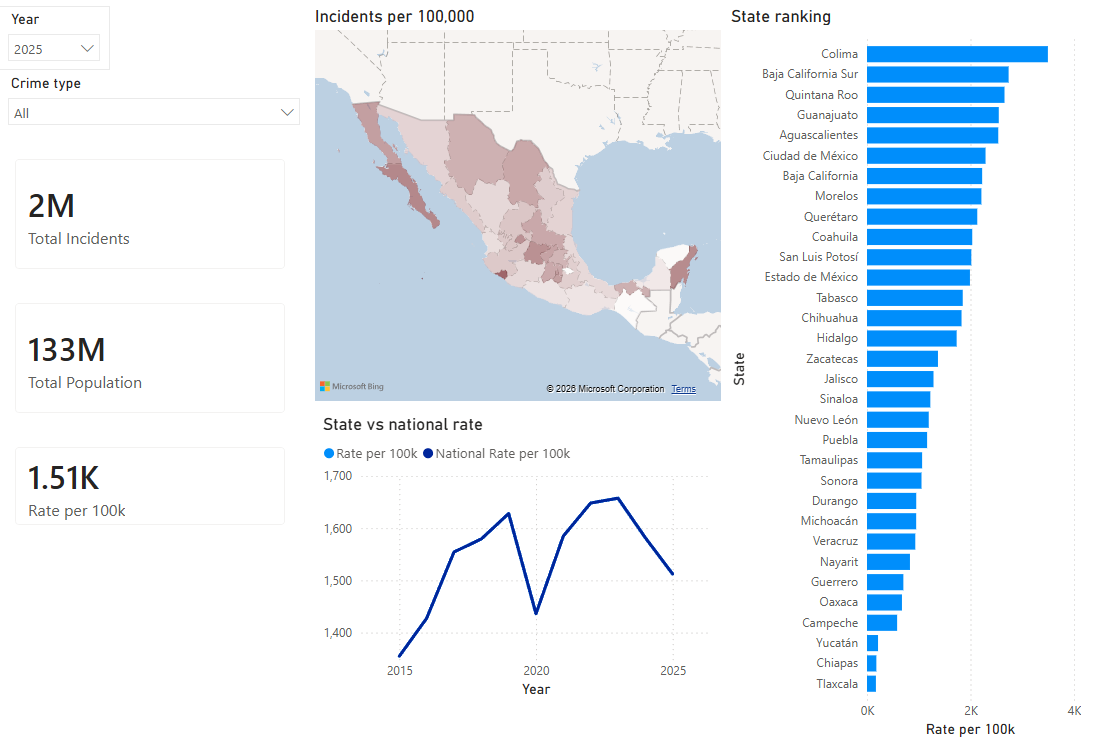

This screenshot's page, from the dashboard's own definition file:
{"tool":"powerbi","page":{"name":"Mexico at a Glance","canvas":[1280,900],"ordinal":0},"visuals":[{"type":"slicer","fields":{"Values":["dim_year.year"]},"box":[0,8,112,64],"z":0},{"type":"slicer","fields":{"Values":["fact_incidents.crime_type"]},"box":[0,72,312,64],"z":1000},{"type":"filledMap","title":"Incidents per 100,000","fields":{"Category":["dim_state.state_name"]},"box":[312,8,416,400],"z":2000},{"type":"clusteredBarChart","title":"State ranking","fields":{"Category":["dim_state.state_name"],"Y":["_Measures.Rate per 100k"]},"box":[728,8,360,736],"z":3000},{"type":"lineChart","title":"State vs national rate","fields":{"Category":["dim_year.year"],"Y":["_Measures.Rate per 100k","_Measures.National Rate per 100k"]},"box":[320,416,400,288],"z":4000},{"type":"cardVisual","fields":{"Data":["_Measures.Total Incidents"]},"box":[0,144,304,144],"z":5000},{"type":"cardVisual","fields":{"Data":["_Measures.Total Population"]},"box":[0,288,304,144],"z":6000},{"type":"cardVisual","fields":{"Data":["_Measures.Rate per 100k"]},"box":[0,432,304,112],"z":7000}]}

Visuals, with their boxes on the page's 1280x900 design canvas (x1, y1, x2, y2). These are canvas units, not pixel positions in the 1101x748 screenshot, which may show the page scaled, cropped or inside an application window:
slicer - dim_year.year: crop(0, 8, 112, 72)
slicer - fact_incidents.crime_type: crop(0, 72, 312, 136)
"Incidents per 100,000" filledMap: crop(312, 8, 728, 408)
"State ranking" clusteredBarChart: crop(728, 8, 1088, 744)
"State vs national rate" lineChart: crop(320, 416, 720, 704)
cardVisual - _Measures.Total Incidents: crop(0, 144, 304, 288)
cardVisual - _Measures.Total Population: crop(0, 288, 304, 432)
cardVisual - _Measures.Rate per 100k: crop(0, 432, 304, 544)
